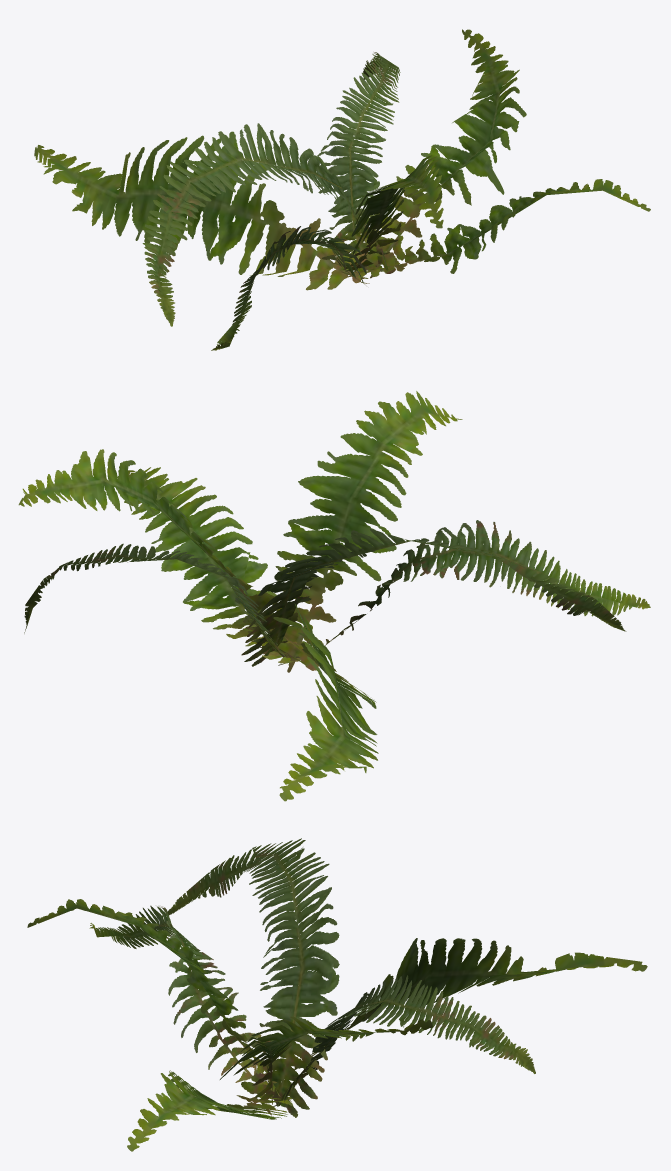
3 renders of one model, top to bottom at view 1: azimuth 30°, elevation 25°; view 2: azimuth 150°, elevation 25°; view 3: azimuth 270°, elevation 25°, orthographic. The views are drawn at different scales.
Parts seen in each view (by area): view 1: fern_02__d_lod1; view 2: fern_02__d_lod1; view 3: fern_02__d_lod1.
Boxes of the visible parts, left/top/right/bottom form: fern_02__d_lod1: left=34, top=29, right=650, bottom=350; fern_02__d_lod1: left=18, top=391, right=650, bottom=801; fern_02__d_lod1: left=27, top=838, right=647, bottom=1151.
Size of the model in its own units: 0.5899 by 0.2192 by 0.6191.
Materials: 1 (1 with a texture image).
